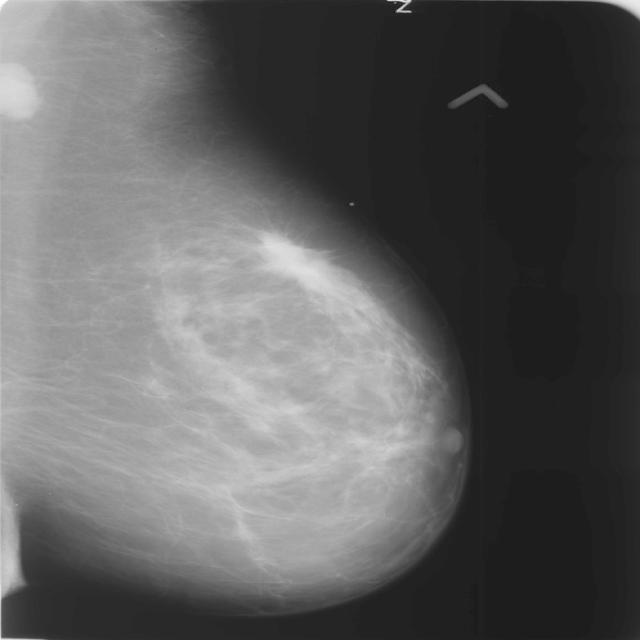tumour: (259, 229, 342, 293)
